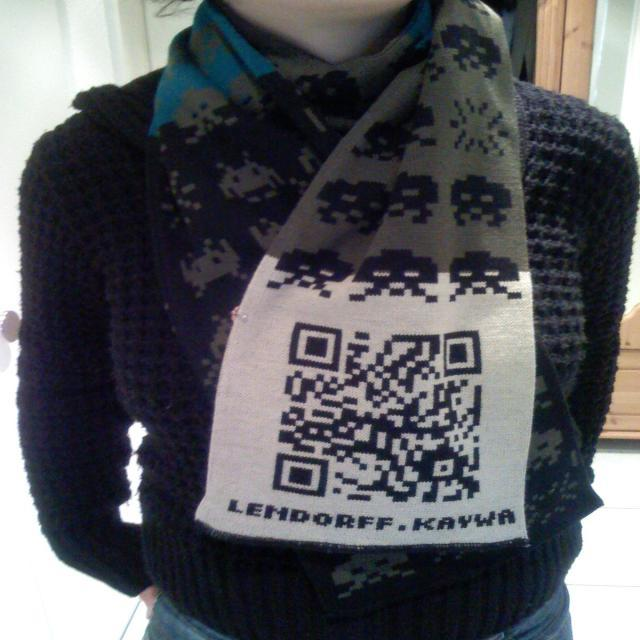qr-code: (271, 321, 482, 503)
